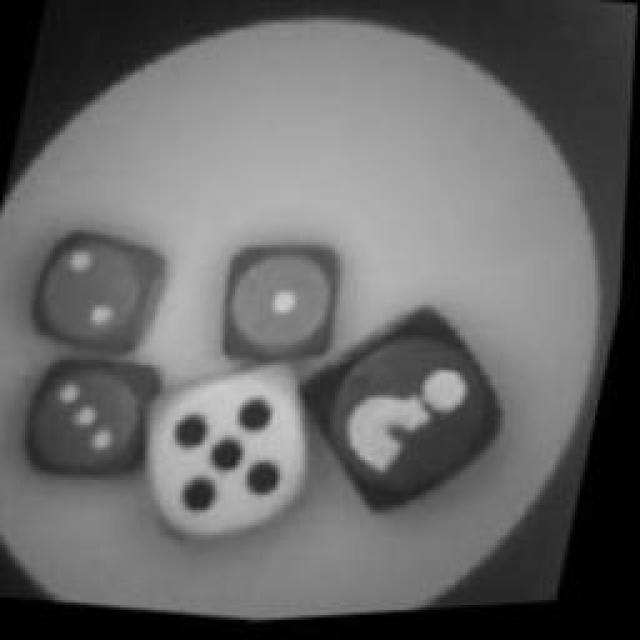dice_1: (212, 228, 366, 384)
dice_2: (20, 218, 180, 372)
dice_3: (16, 339, 176, 509)
dice_5: (126, 352, 336, 556)
